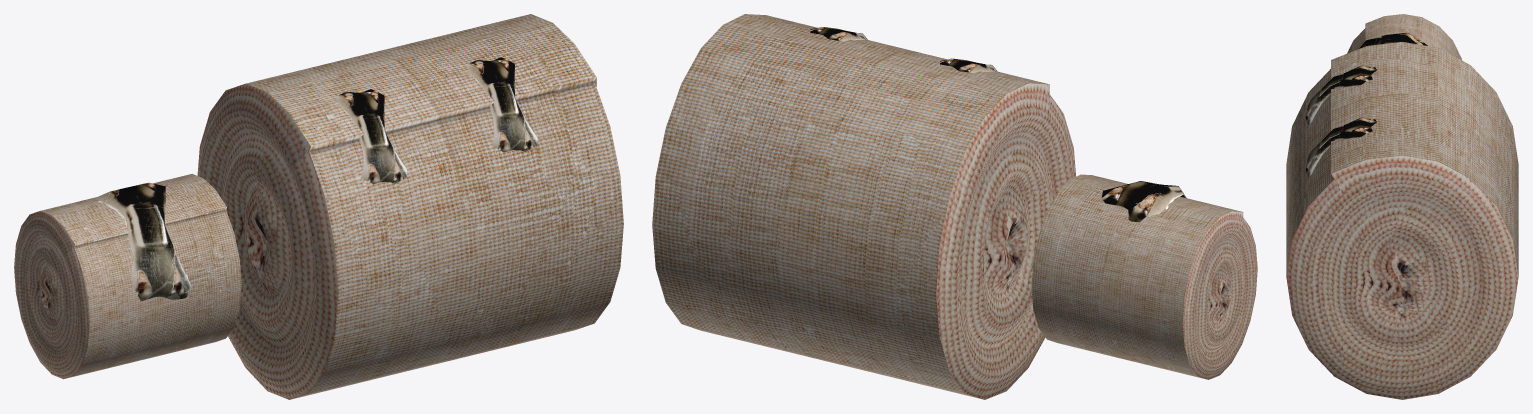
File: roll_bandages_big+small.fbx
3 views of the same model, side by side, from view 1: azimuth 30°, elevation 25°; view 2: azimuth 150°, elevation 25°; view 3: azimuth 270°, elevation 25° (orthographic). The views are drawn at different scales.
Visible parts, largest first — view 1: polySurface4, polySurface5; view 2: polySurface4, polySurface5; view 3: polySurface4, polySurface5.
Boxes of the visible parts, x1,y1,x2,y2 form: polySurface4: [197, 14, 623, 399]; polySurface5: [14, 174, 241, 379]; polySurface4: [652, 14, 1075, 399]; polySurface5: [1031, 174, 1257, 379]; polySurface4: [1286, 42, 1518, 399]; polySurface5: [1347, 14, 1461, 60].
Size of the model in its own units: 24.86 by 13.79 by 11.88.
